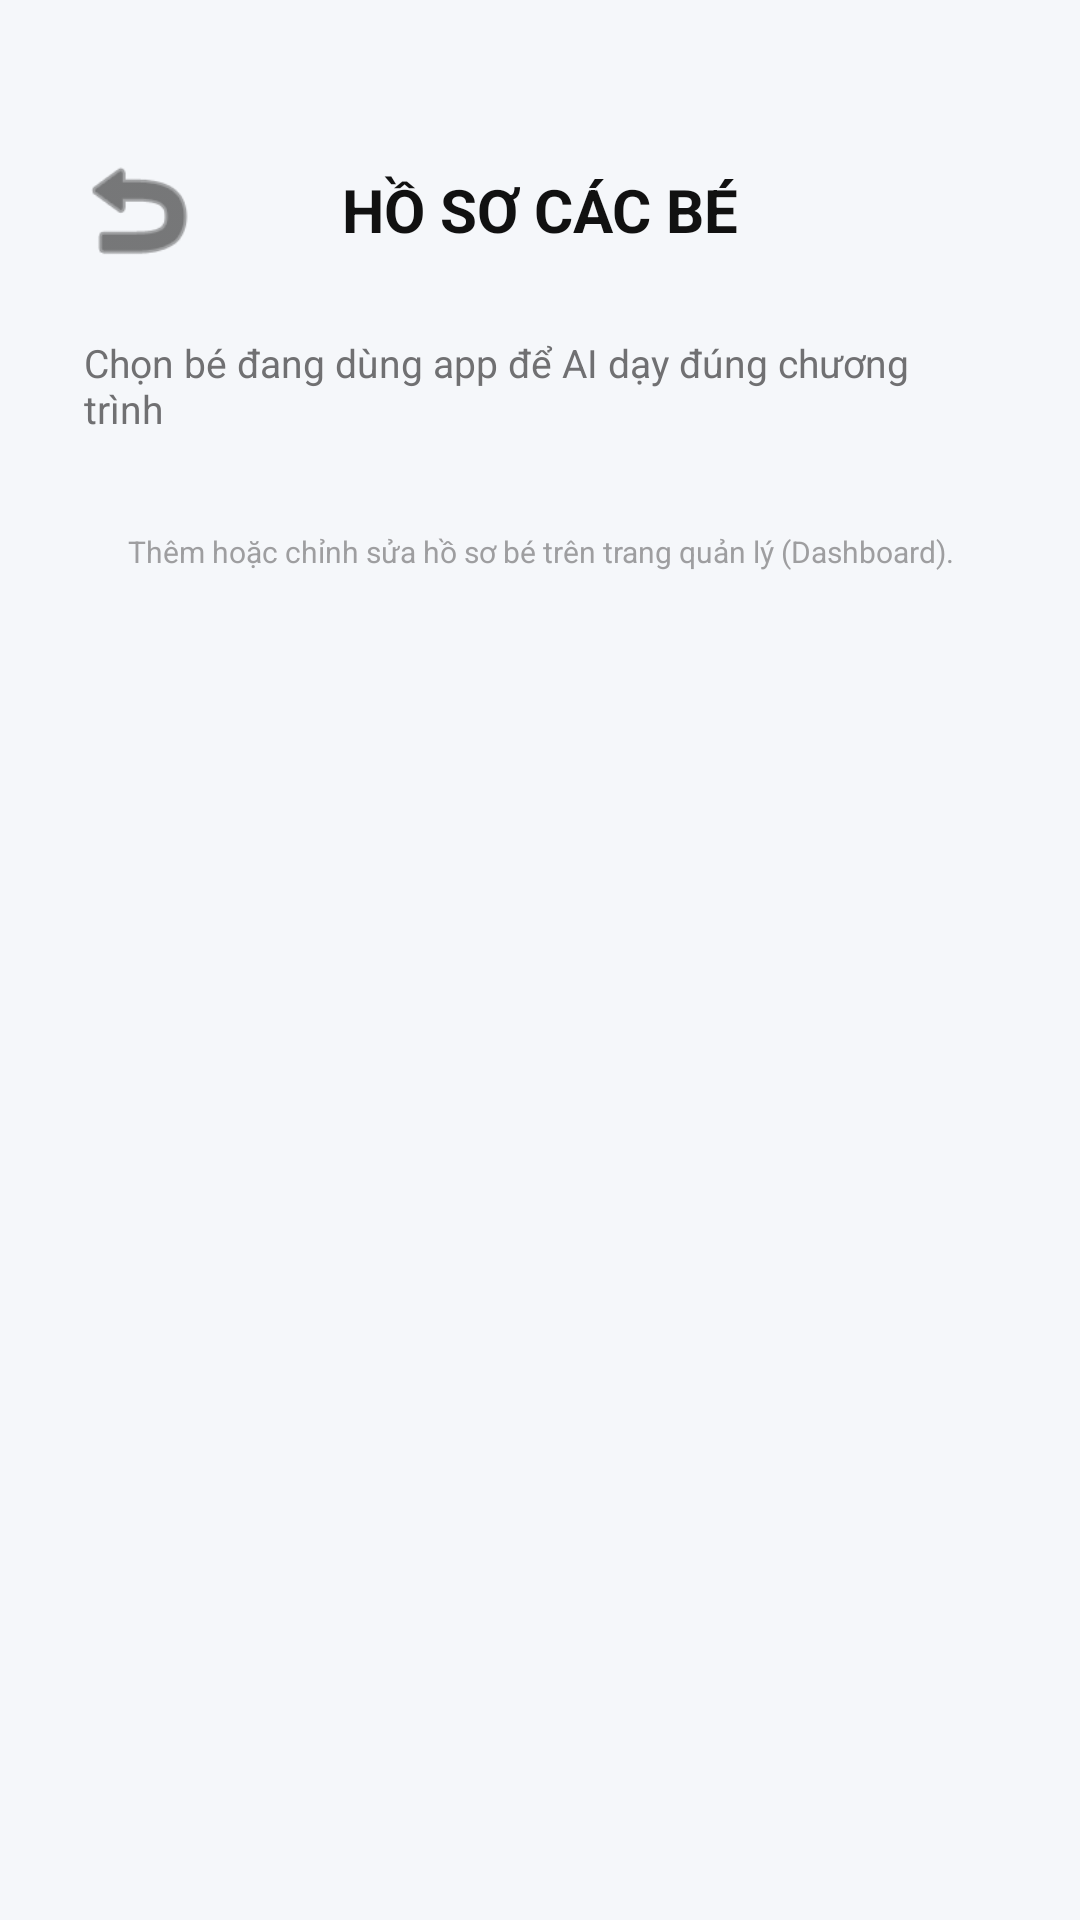

Icons on this 1080 x 1920 Android screen, each with its box as (x1, y1, x2, y2):
Quay lại: (92, 168, 187, 254)
